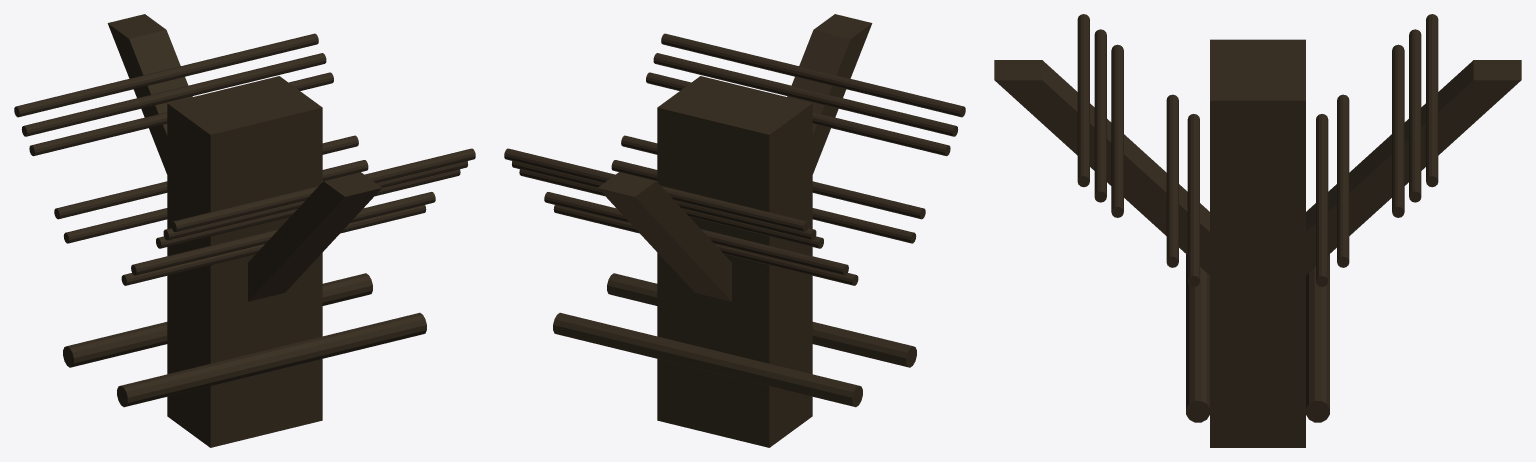
Rendered from nyc_subway_track_pole_3.obj.
3 views of the same model, side by side, from view 1: azimuth 30°, elevation 25°; view 2: azimuth 150°, elevation 25°; view 3: azimuth 270°, elevation 25° (orthographic). The views are drawn at different scales.
Visible parts, largest first — view 1: cube, cylinder; view 2: cube, cylinder; view 3: cube, cylinder.
Part boxes in pixels (x1=…): cube: x1=107, y1=14, x2=381, y2=447; cylinder: x1=14, y1=33, x2=475, y2=407; cube: x1=598, y1=14, x2=872, y2=447; cylinder: x1=504, y1=33, x2=965, y2=407; cube: x1=994, y1=39, x2=1521, y2=447; cylinder: x1=1077, y1=14, x2=1438, y2=422.
Size of the model in its own units: 1 by 1 by 1.38.
Materials: 1 (1 with a texture image).
